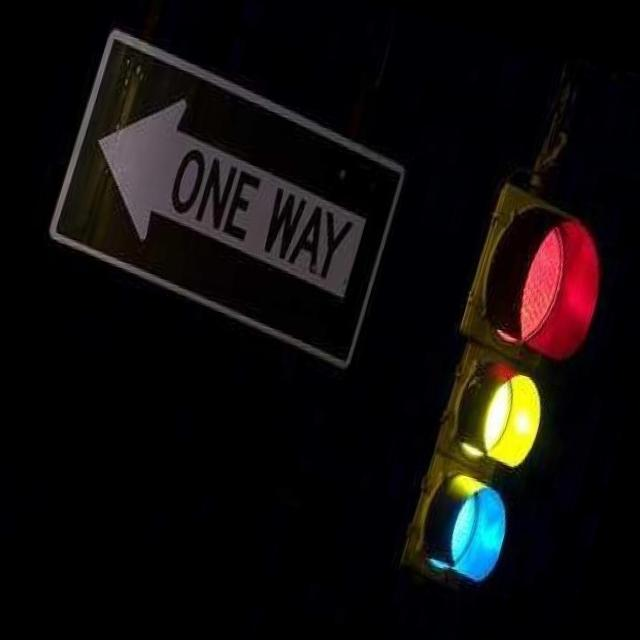green-lights: (398, 461, 522, 604)
red-lights: (457, 172, 626, 376)
yellow-lights: (428, 345, 560, 487)
